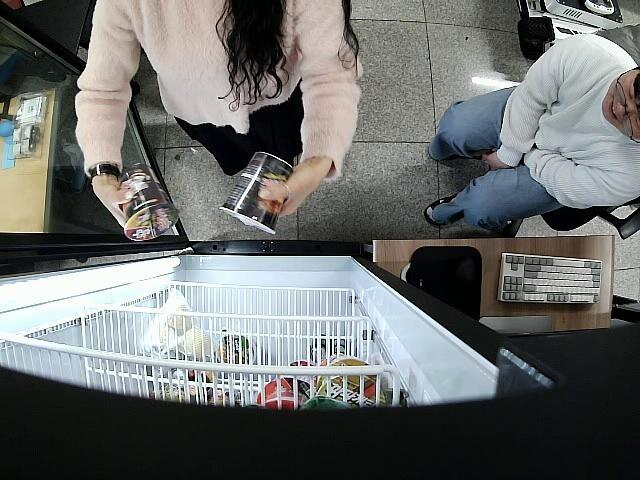08_buldak_S: (220, 152, 294, 236), (122, 164, 182, 244)
